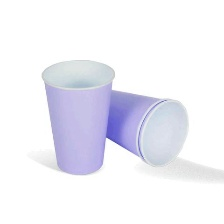paper_cup: (35, 54, 119, 177), (88, 83, 195, 169)
